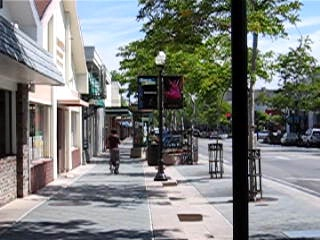person: (107, 129, 122, 176), (106, 129, 121, 176), (108, 129, 123, 176), (107, 128, 122, 175), (107, 130, 122, 177)
target_negative: (186, 69, 310, 218), (124, 46, 255, 128), (215, 84, 250, 227), (247, 187, 302, 211), (200, 165, 220, 201), (107, 218, 313, 221)
